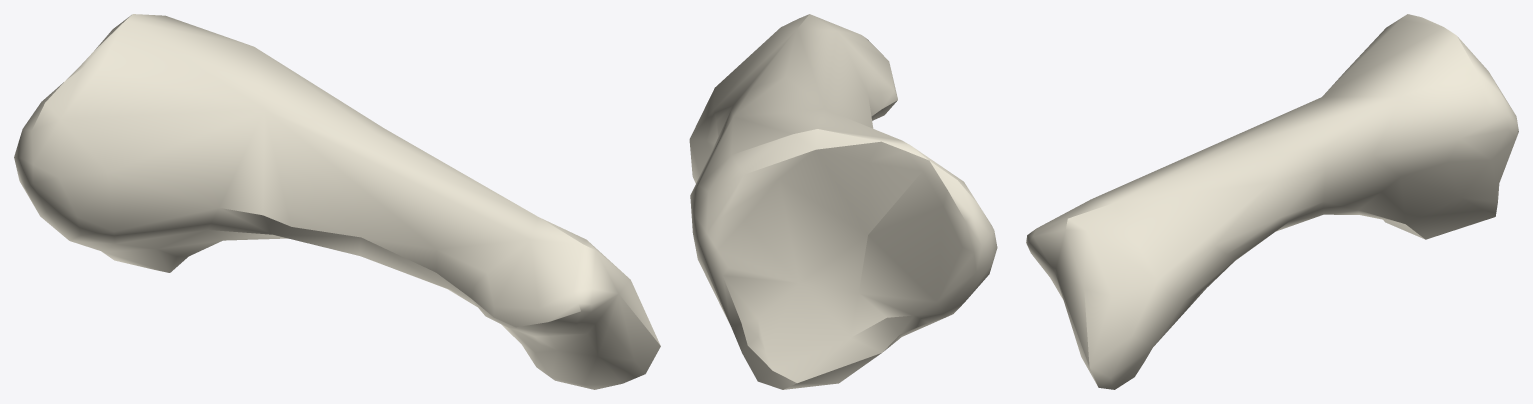
The model's file is fma32639_fj6417.glb.
3 views of the same model, side by side, from view 1: azimuth 30°, elevation 25°; view 2: azimuth 150°, elevation 25°; view 3: azimuth 270°, elevation 25° (orthographic). The views are drawn at different scales.
Parts seen in each view (by area): view 1: FMA32639_FJ6417; view 2: FMA32639_FJ6417; view 3: FMA32639_FJ6417.
Boxes of the visible parts, <box> form: FMA32639_FJ6417: <box>14,14,660,389</box>; FMA32639_FJ6417: <box>689,14,997,389</box>; FMA32639_FJ6417: <box>1026,14,1518,389</box>.
Size of the model in its own units: 0.0215 by 0.0132 by 0.0242.
